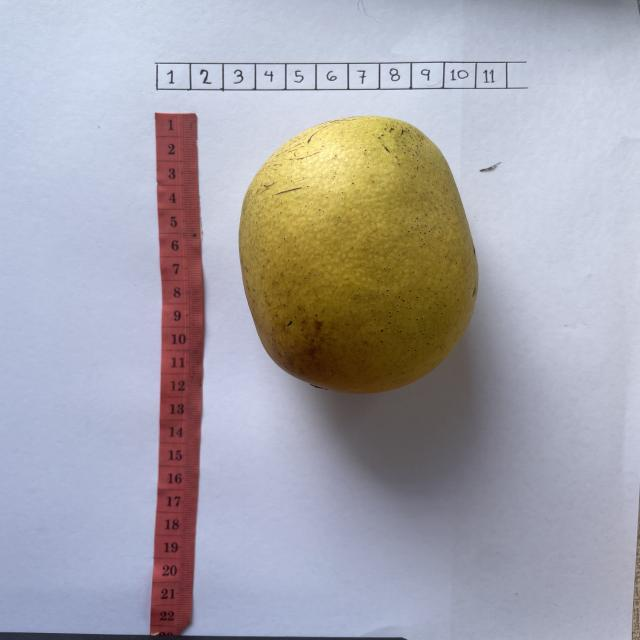Ripe: (237, 116, 479, 397)
